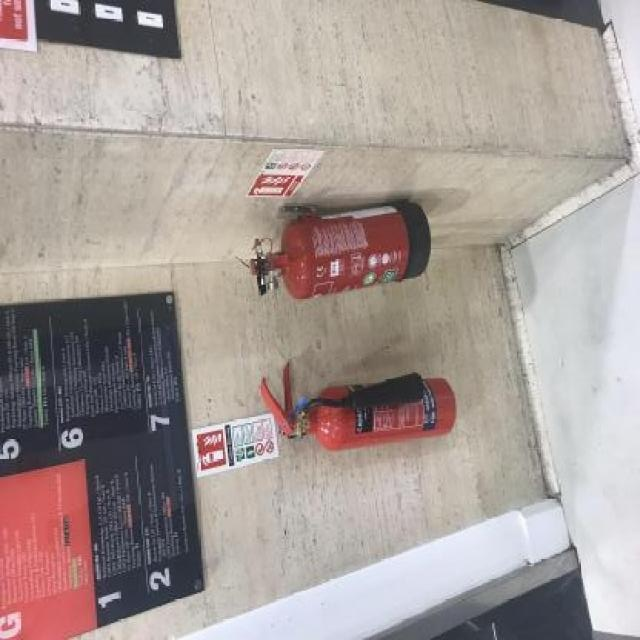fire extinguisher: (258, 197, 430, 305), (265, 380, 457, 451)
